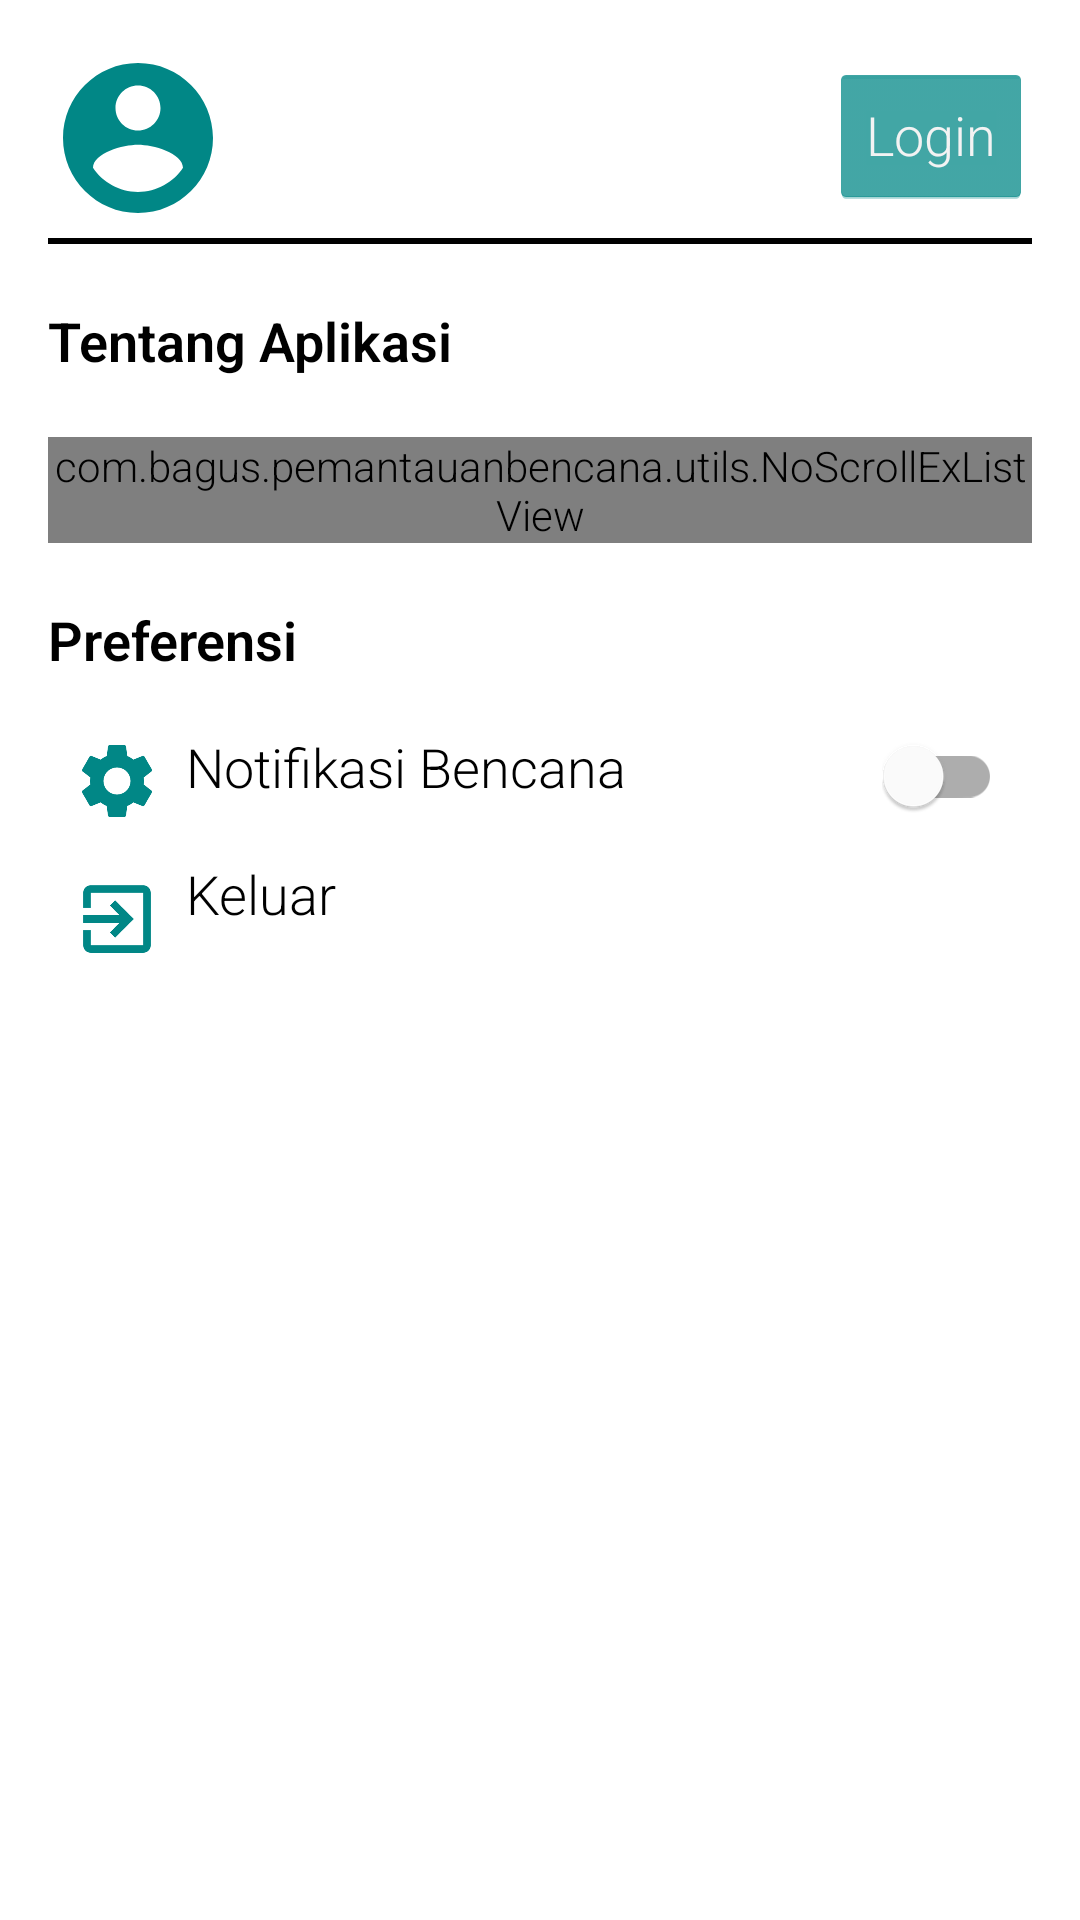

Named icons in this screenshot (1080px x 1920px) and their centers, (x=x, y=y):
account: (x=138, y=138)
exit to app: (x=117, y=919)
settings: (x=117, y=781)
